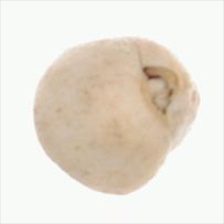L3: (140, 63, 181, 123)
L4: (33, 36, 201, 195)
